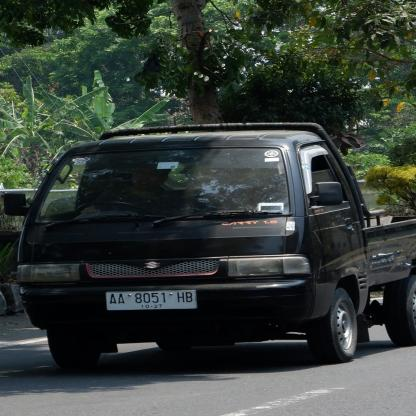Plat-Nomor: (100, 287, 202, 313)
